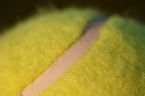tennis ball: (1, 9, 144, 96)
